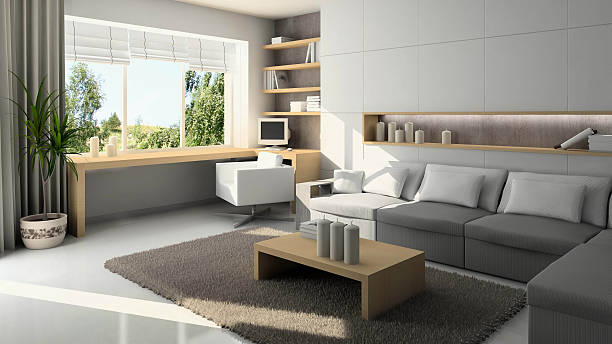large plant: (1, 66, 91, 251)
sofa: (293, 159, 612, 344)
table: (250, 227, 428, 322)
